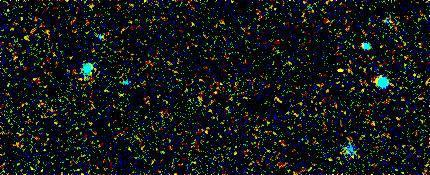star: (325, 56, 355, 86)
